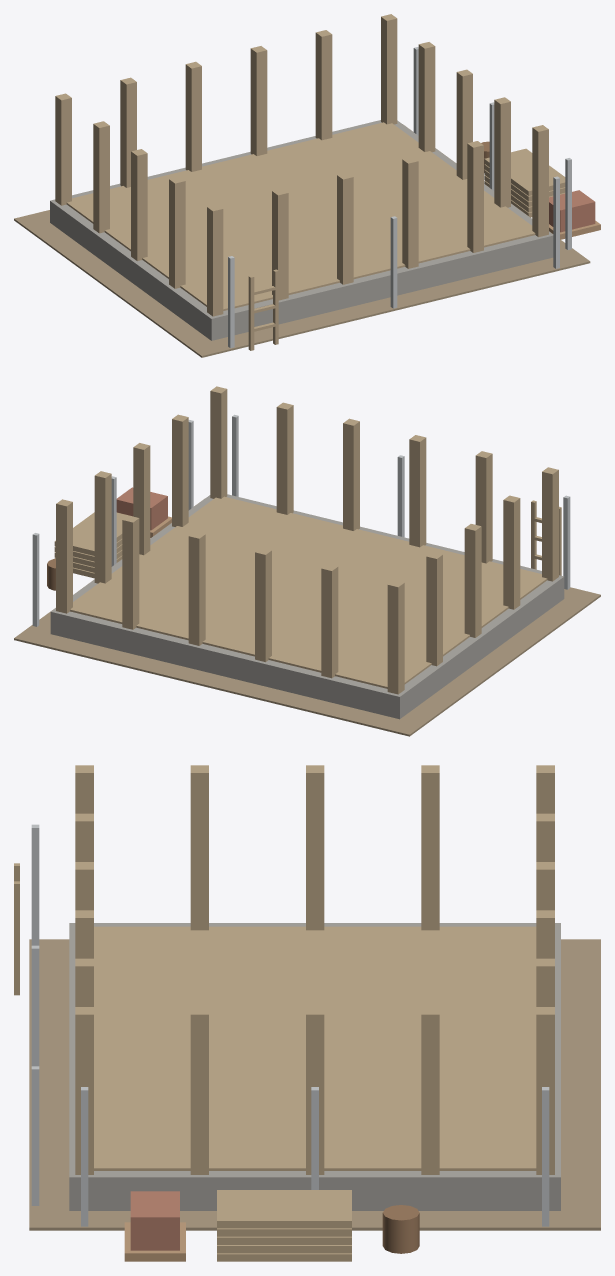
The model's file is winery_site_3.glb.
3 renders of one model, top to bottom at view 1: azimuth 30°, elevation 25°; view 2: azimuth 150°, elevation 25°; view 3: azimuth 270°, elevation 25°, orthographic. The views are drawn at different scales.
Visible parts, largest first — view 1: body; view 2: body; view 3: body.
Part boxes in pixels (x1,y1,x2,y2): body: (14, 14, 600, 357); body: (14, 386, 600, 736); body: (14, 765, 600, 1261).
Size of the model in its own units: 2.46 by 0.7052 by 1.91.
